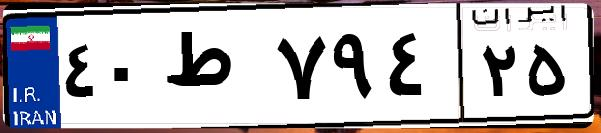0: (110, 28, 158, 98)
2: (475, 38, 525, 113)
4: (385, 28, 445, 110), (57, 26, 110, 100)
5: (525, 38, 570, 115)
7: (270, 28, 330, 110)
9: (330, 28, 385, 110)
ط: (158, 20, 270, 120)
